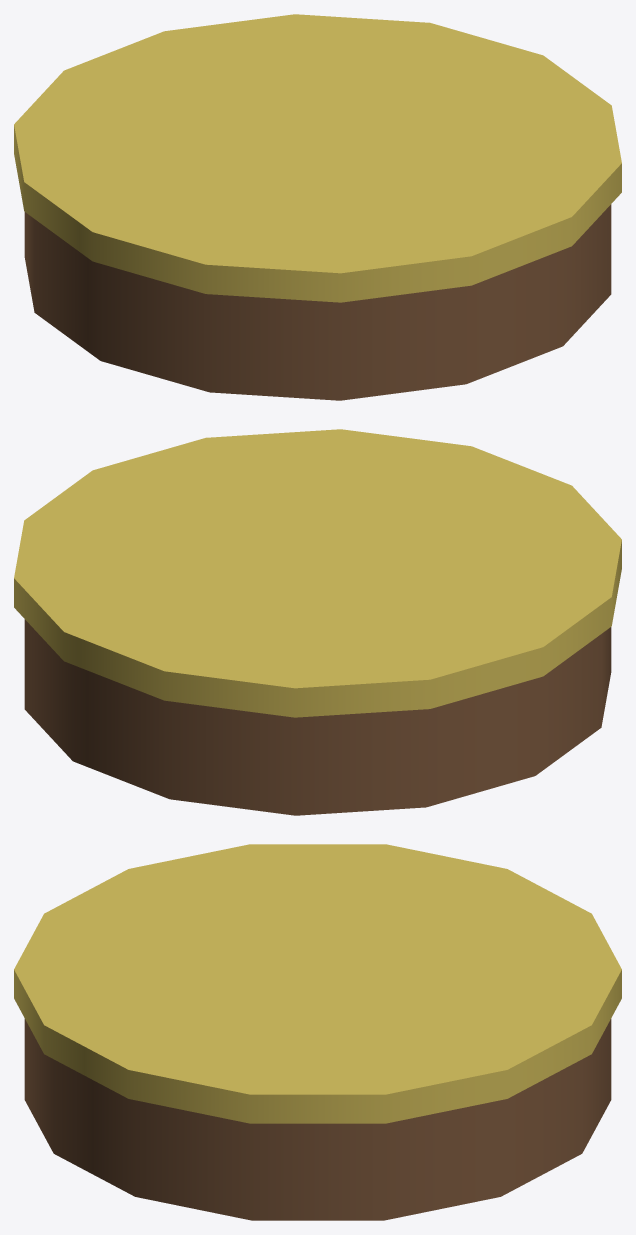
Rendered from patty.glb.
The picture shows the model from 3 angles, top to bottom: view 1: azimuth 30°, elevation 25°; view 2: azimuth 150°, elevation 25°; view 3: azimuth 270°, elevation 25°; orthographic projection.
Visible parts, largest first — view 1: patty; view 2: patty; view 3: patty.
Boxes of the visible parts, left/top/right/bottom form: patty: left=14, top=14, right=621, bottom=400; patty: left=14, top=429, right=621, bottom=815; patty: left=14, top=844, right=621, bottom=1220.
Bounding box in the file's own units: 0.1111 × 0.027 × 0.114.
